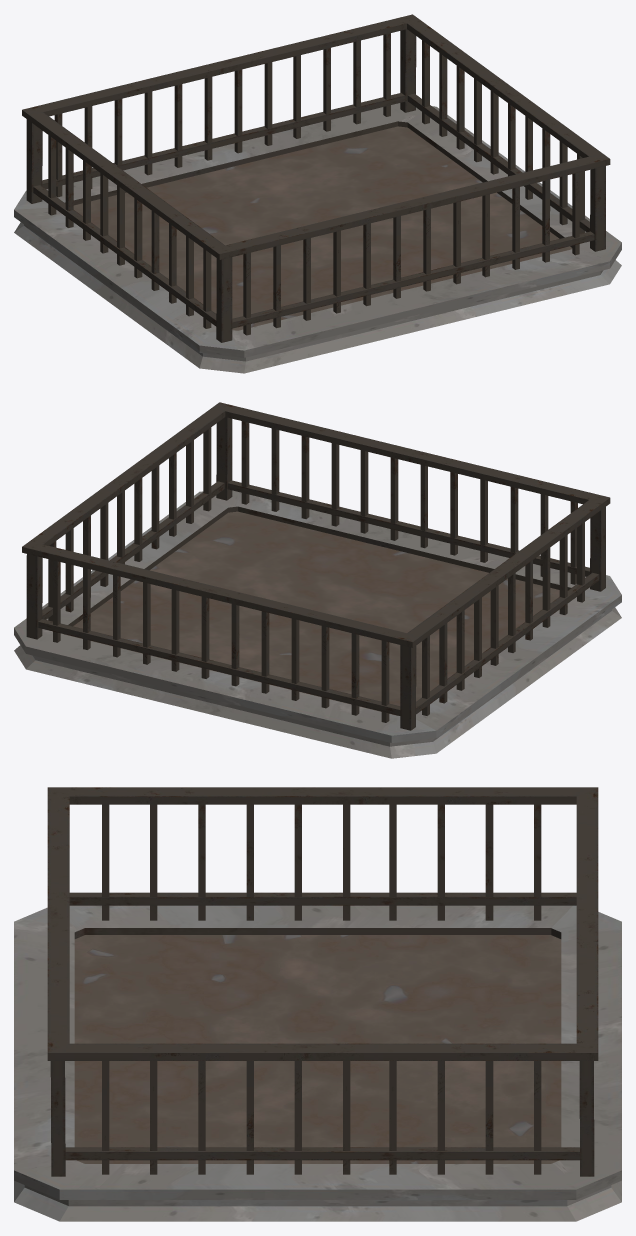
File: Sidewalk_Planter.gltf
3 renders of one model, top to bottom at view 1: azimuth 30°, elevation 25°; view 2: azimuth 150°, elevation 25°; view 3: azimuth 270°, elevation 25°, orthographic. The views are drawn at different scales.
Visible parts, largest first — view 1: Sidewalk_Planter; view 2: Sidewalk_Planter; view 3: Sidewalk_Planter.
Part boxes in pixels (x1,y1,x2,y2): Sidewalk_Planter: (14, 14, 621, 373); Sidewalk_Planter: (14, 402, 621, 758); Sidewalk_Planter: (14, 787, 621, 1221).
Bounding box in the file's own units: 1.97 × 0.5057 × 1.77.
Materials: 2 (2 with a texture image).
